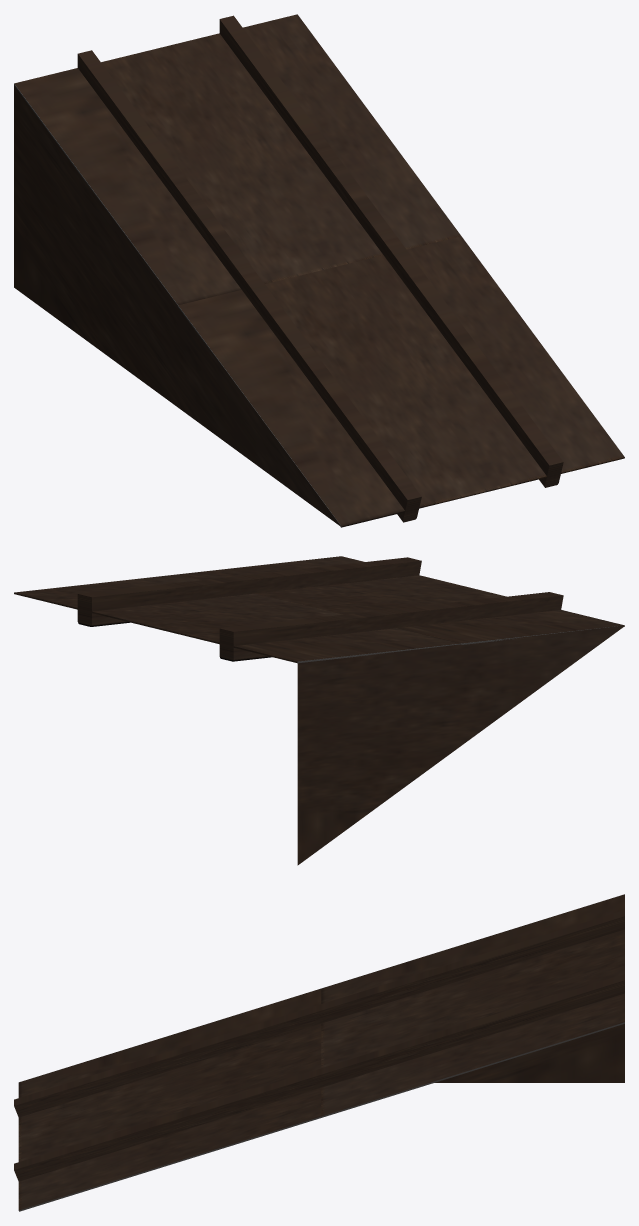
File: OutdoorArchitecture_Ceiling_EndPiece02_BShortt.fbx
3 views of the same model, one above another, from view 1: azimuth 30°, elevation 25°; view 2: azimuth 150°, elevation 25°; view 3: azimuth 270°, elevation 25° (orthographic). The views are drawn at different scales.
Parts seen in each view (by area): view 1: OutdoorArchitecture_Ceiling_EndPiece02_BShortt; view 2: OutdoorArchitecture_Ceiling_EndPiece02_BShortt; view 3: OutdoorArchitecture_Ceiling_EndPiece02_BShortt.
Boxes of the visible parts, x1,y1,x2,y2 form: OutdoorArchitecture_Ceiling_EndPiece02_BShortt: [14, 14, 624, 527]; OutdoorArchitecture_Ceiling_EndPiece02_BShortt: [14, 556, 624, 865]; OutdoorArchitecture_Ceiling_EndPiece02_BShortt: [14, 894, 624, 1211].
Size of the model in its own units: 300 by 234 by 605.
